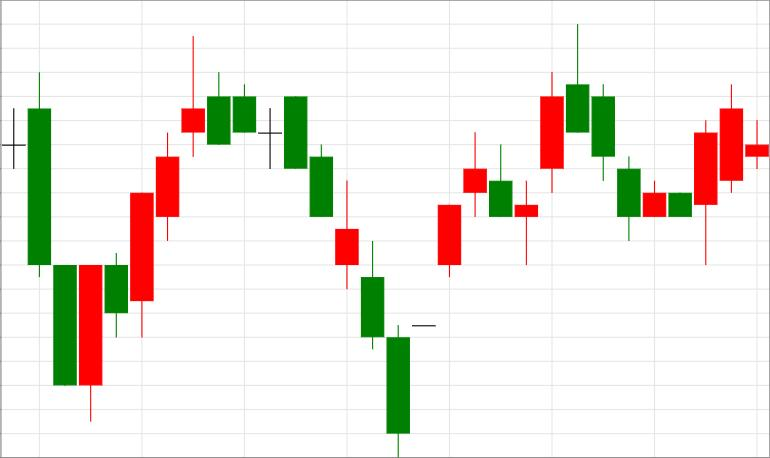bullish_engulfing_rise: (566, 24, 718, 265)
shooting_star_fall: (79, 36, 205, 422)
